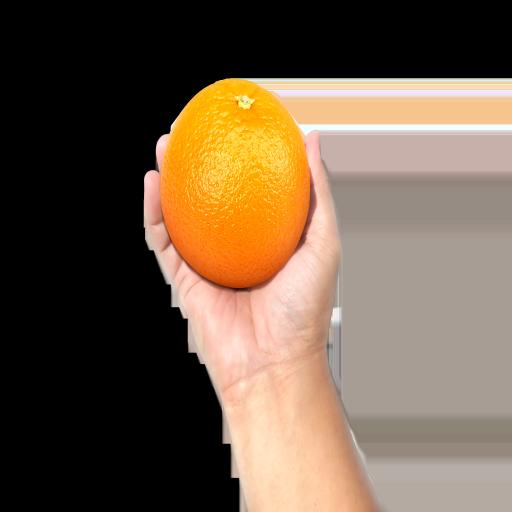orange: (161, 79, 309, 288)
